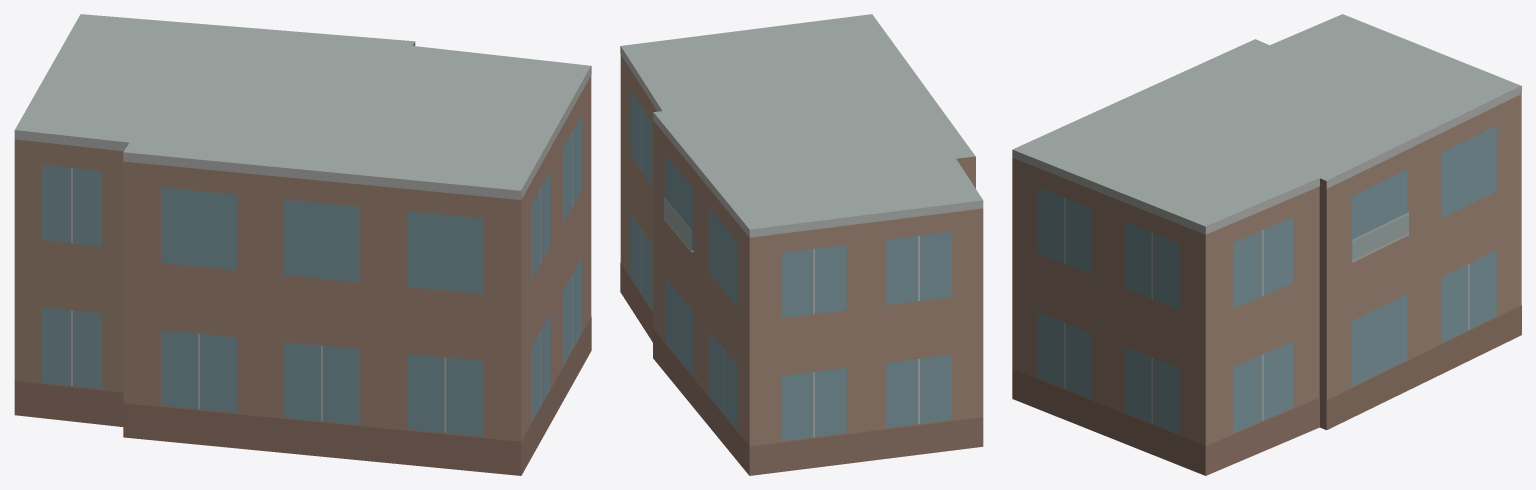
The model's file is survey-upis-32545322.glb.
3 renders of one model, left to right at view 1: azimuth 30°, elevation 25°; view 2: azimuth 150°, elevation 25°; view 3: azimuth 270°, elevation 25°, orthographic. The views are drawn at different scales.
Parts seen in each view (by area): view 1: survey-upis-32545322.tmp; view 2: survey-upis-32545322.tmp; view 3: survey-upis-32545322.tmp.
Part boxes in pixels (x1,y1,x2,y2): survey-upis-32545322.tmp: (14, 14, 591, 475); survey-upis-32545322.tmp: (620, 14, 983, 475); survey-upis-32545322.tmp: (1012, 14, 1521, 475).
Bounding box in the file's own units: 13.73 × 7.5 × 13.9.
